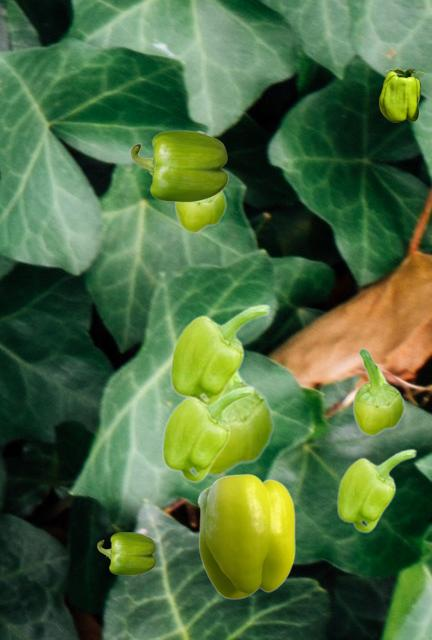bell_pepper: (180, 318, 274, 476), (197, 473, 294, 598), (169, 303, 270, 402), (161, 385, 254, 482), (130, 130, 227, 201), (336, 448, 416, 532), (352, 348, 404, 435), (97, 532, 155, 574), (379, 69, 424, 121), (174, 189, 226, 232)
